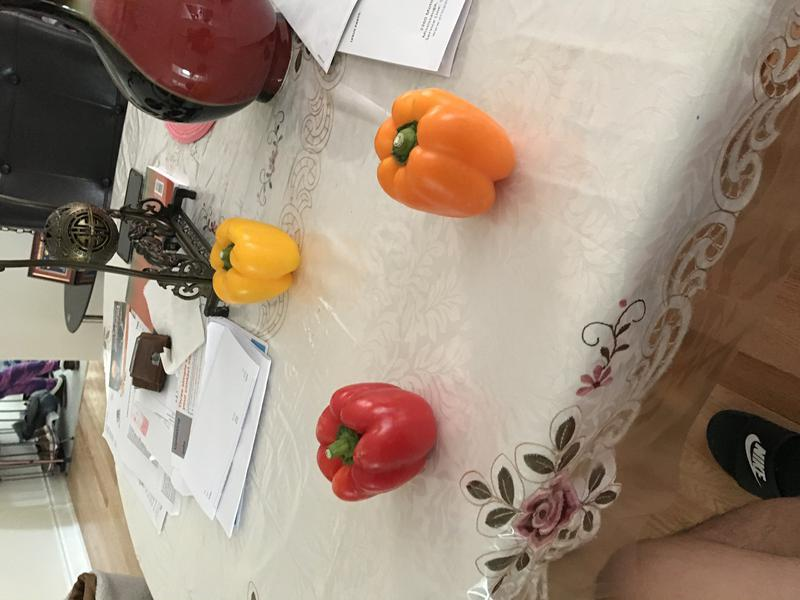orange_pepper: (366, 78, 525, 231)
red_pepper: (307, 374, 450, 507)
yellow_pepper: (204, 212, 309, 311)
